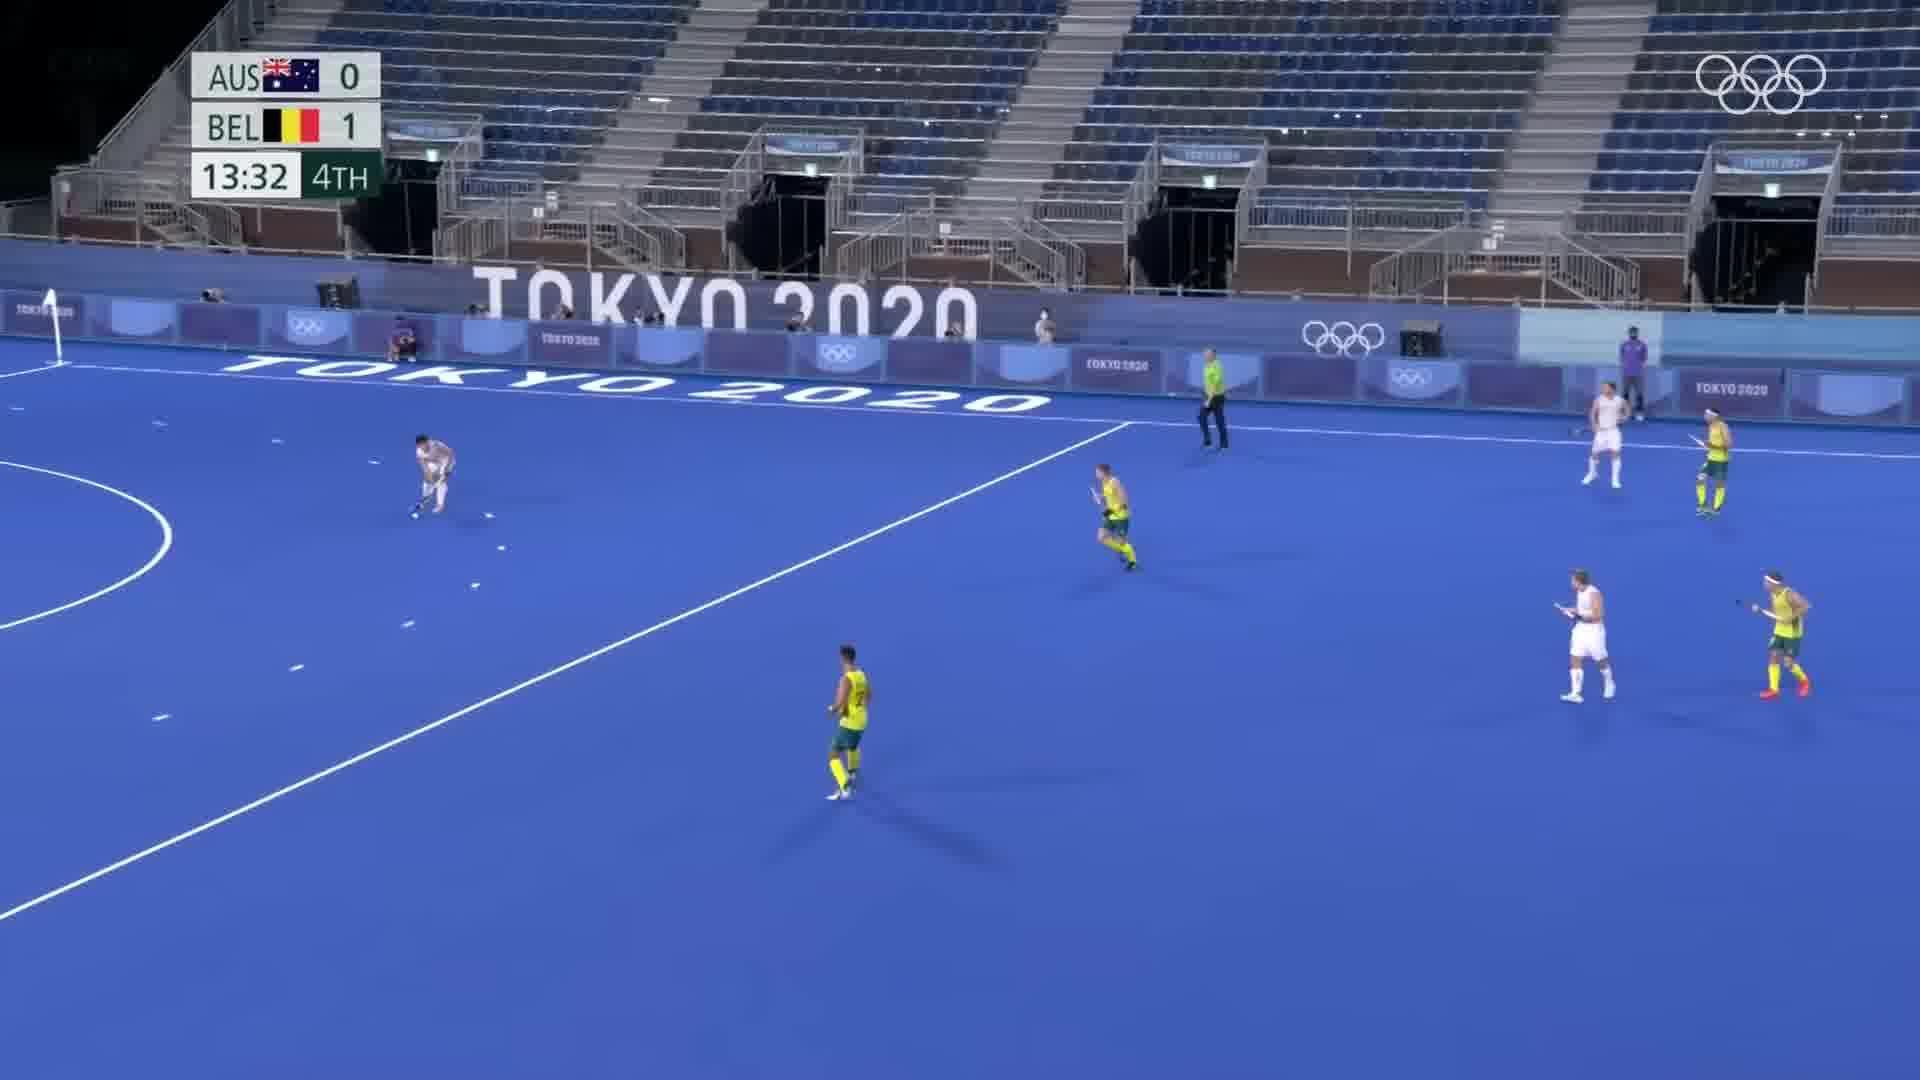ball: (407, 505, 424, 524)
